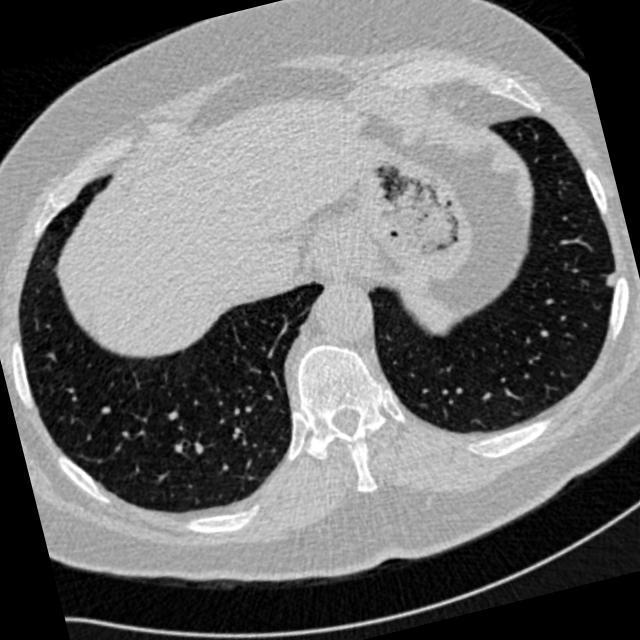nodule: (592, 262, 626, 296)
